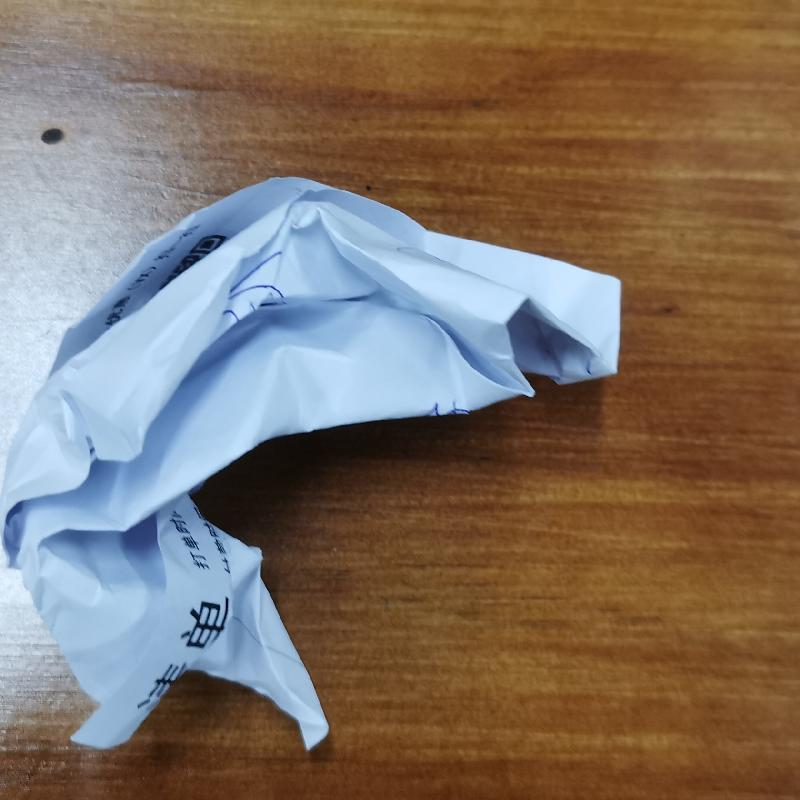spitball: (11, 177, 627, 755)
